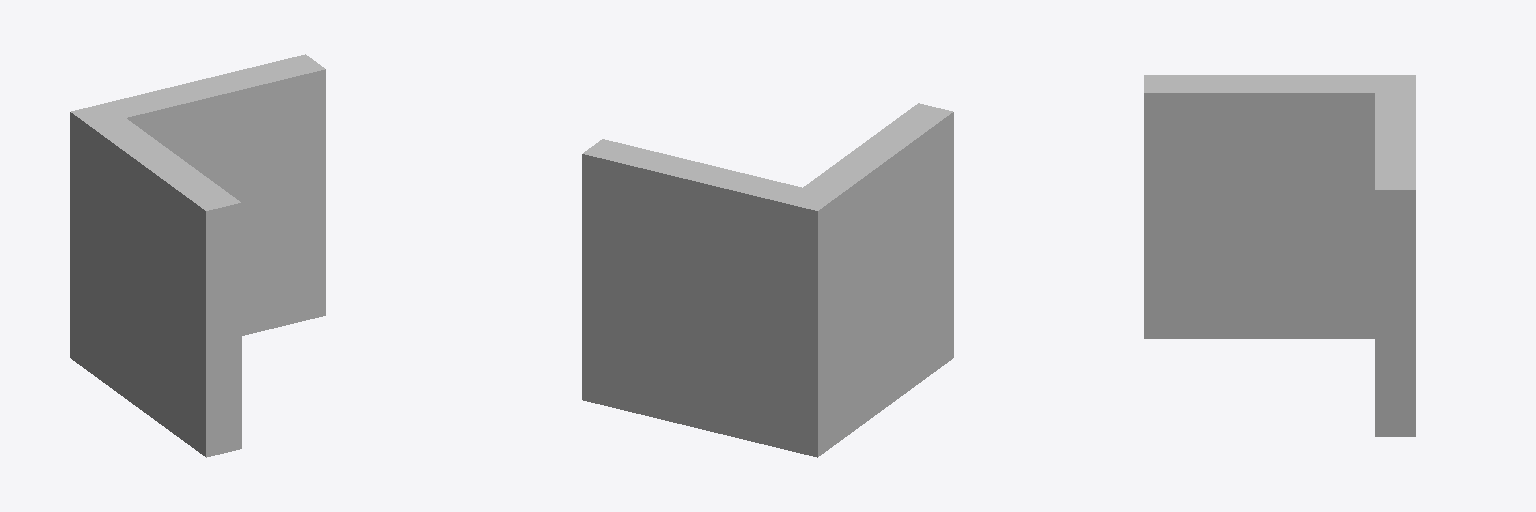
The model's file is hs_corner_mid.obj.
The picture shows the model from 3 angles: view 1: azimuth 30°, elevation 25°; view 2: azimuth 150°, elevation 25°; view 3: azimuth 270°, elevation 25°; orthographic projection.
Visible parts, largest first — view 1: corner_mid_Cube.006; view 2: corner_mid_Cube.006; view 3: corner_mid_Cube.006.
Boxes of the visible parts, x1,y1,x2,y2 form: corner_mid_Cube.006: [70, 54, 325, 457]; corner_mid_Cube.006: [582, 103, 953, 457]; corner_mid_Cube.006: [1144, 75, 1415, 436].
Size of the model in its own units: 2 by 2 by 2.